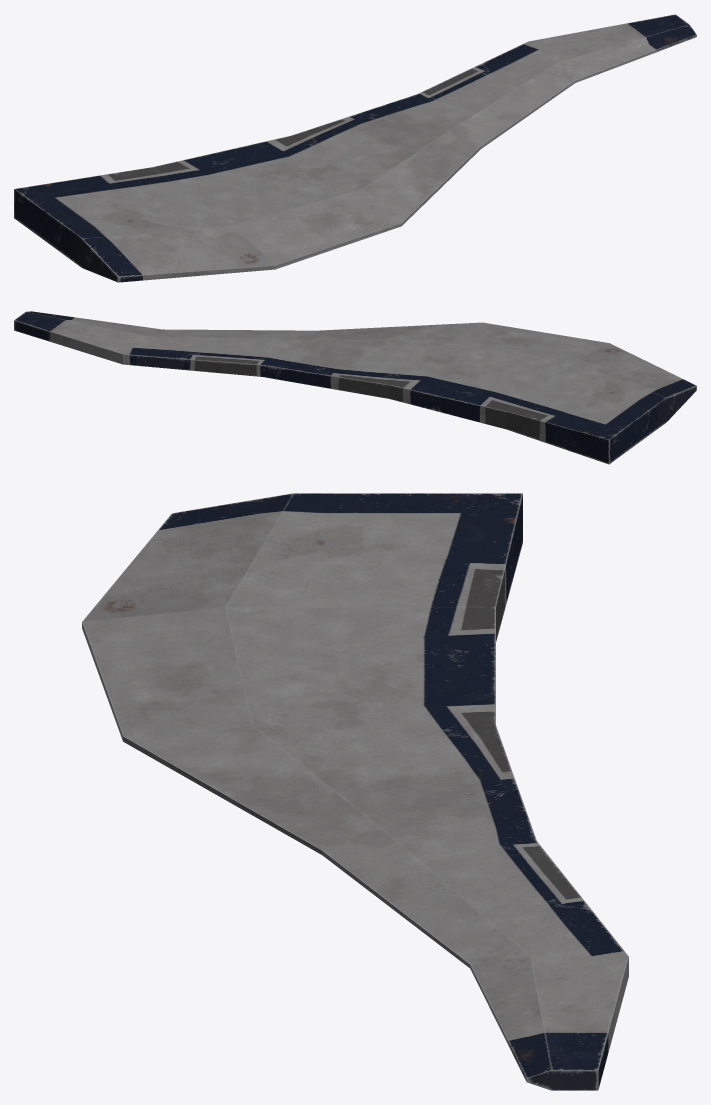
Rendered from wing_l_1.L.fbx.
3 views of the same model, one above another, from view 1: azimuth 30°, elevation 25°; view 2: azimuth 150°, elevation 25°; view 3: azimuth 270°, elevation 25° (orthographic). The views are drawn at different scales.
Parts seen in each view (by area): view 1: wing_l_1.L; view 2: wing_l_1.L; view 3: wing_l_1.L.
Boxes of the visible parts, x1,y1,x2,y2 form: wing_l_1.L: [14, 14, 696, 282]; wing_l_1.L: [14, 311, 696, 464]; wing_l_1.L: [82, 493, 628, 1090].
Size of the model in its own units: 87.1 by 3.55 by 35.78.
